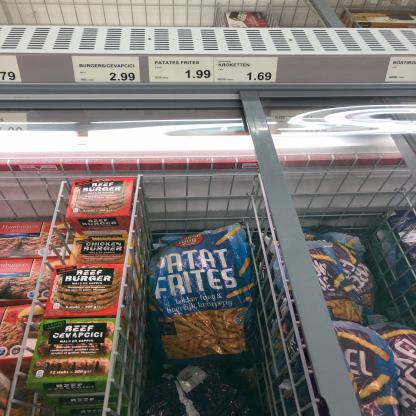prtg: (72, 57, 142, 84), (149, 58, 215, 85), (215, 58, 280, 84), (385, 57, 416, 84), (1, 56, 23, 84)
